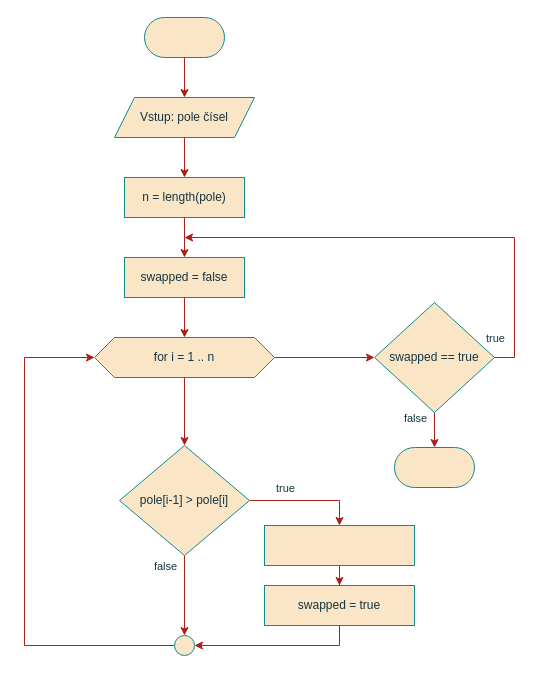
Image size: 540x673. Some labels were removed from this diagram. The shapes that lost their labels are listed below. From the top down, each one's centre as x and y in pixels, then its label:
At (184,37): "Štart".
At (434,467): "Koniec".
At (339,545): "prehoď(pole[i-1],pole[i])".
